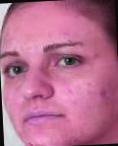Acne: (98, 86, 106, 97), (94, 51, 98, 57)
